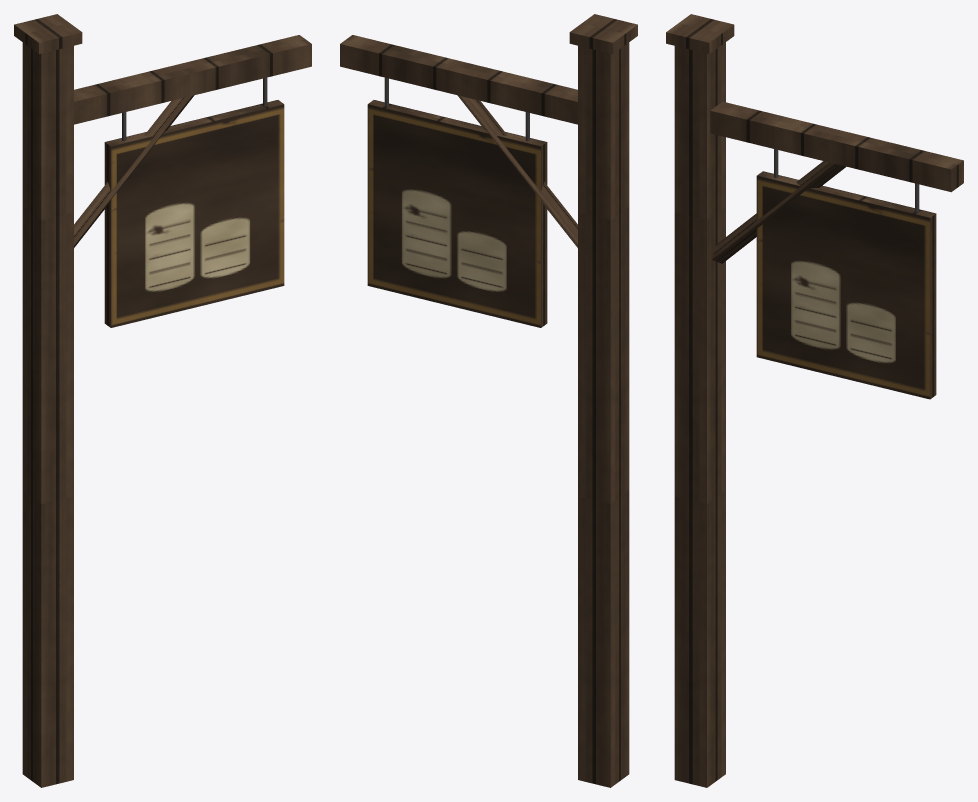
File: Sign_Service_banque_LOD1.gltf
The picture shows the model from 3 angles, left to right: view 1: azimuth 30°, elevation 25°; view 2: azimuth 150°, elevation 25°; view 3: azimuth 330°, elevation 25°; orthographic projection.
Parts seen in each view (by area): view 1: Sign_Service_banque_LOD1; view 2: Sign_Service_banque_LOD1; view 3: Sign_Service_banque_LOD1.
Part boxes in pixels (x1,y1,x2,y2): Sign_Service_banque_LOD1: (14, 14, 311, 787); Sign_Service_banque_LOD1: (340, 14, 637, 787); Sign_Service_banque_LOD1: (666, 14, 963, 787).
Bounding box in the file's own units: 1.03 × 2.64 × 0.16.
3 materials, 3 textured.
